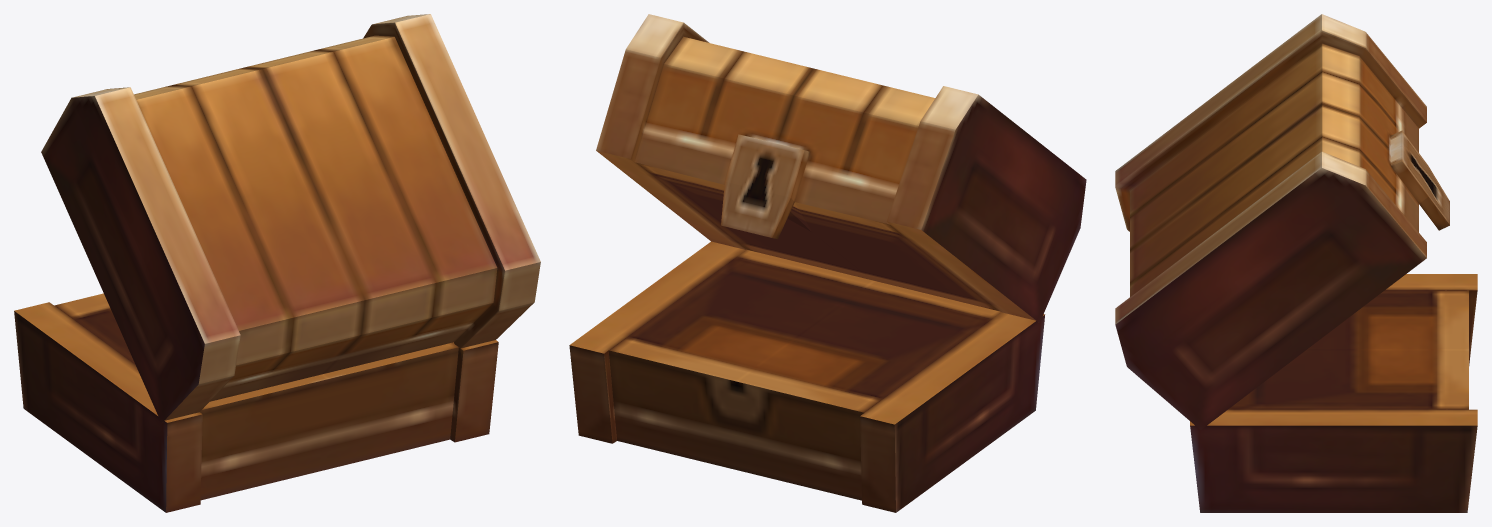
The model's file is chest_1_open.FBX.
3 renders of one model, left to right at view 1: azimuth 30°, elevation 25°; view 2: azimuth 150°, elevation 25°; view 3: azimuth 270°, elevation 25°, orthographic. The views are drawn at different scales.
Parts seen in each view (by area): view 1: chest_1_open; view 2: chest_1_open; view 3: chest_1_open.
Boxes of the visible parts, left/top/right/bottom form: chest_1_open: left=14, top=14, right=540, bottom=512; chest_1_open: left=569, top=14, right=1086, bottom=512; chest_1_open: left=1115, top=14, right=1477, bottom=512.
Bounding box in the file's own units: 76.37 × 80.68 × 76.01.
